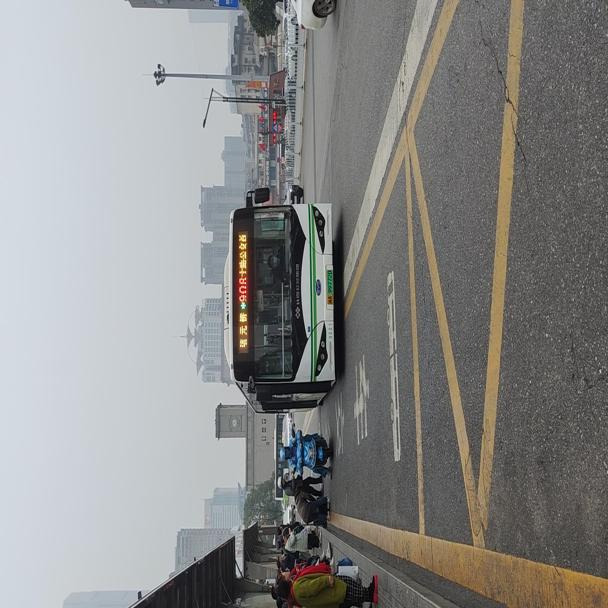bus: (221, 188, 335, 414)
screen: (234, 275, 250, 301)
